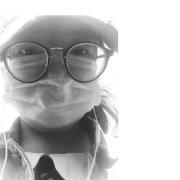OK: (12, 35, 107, 130)
